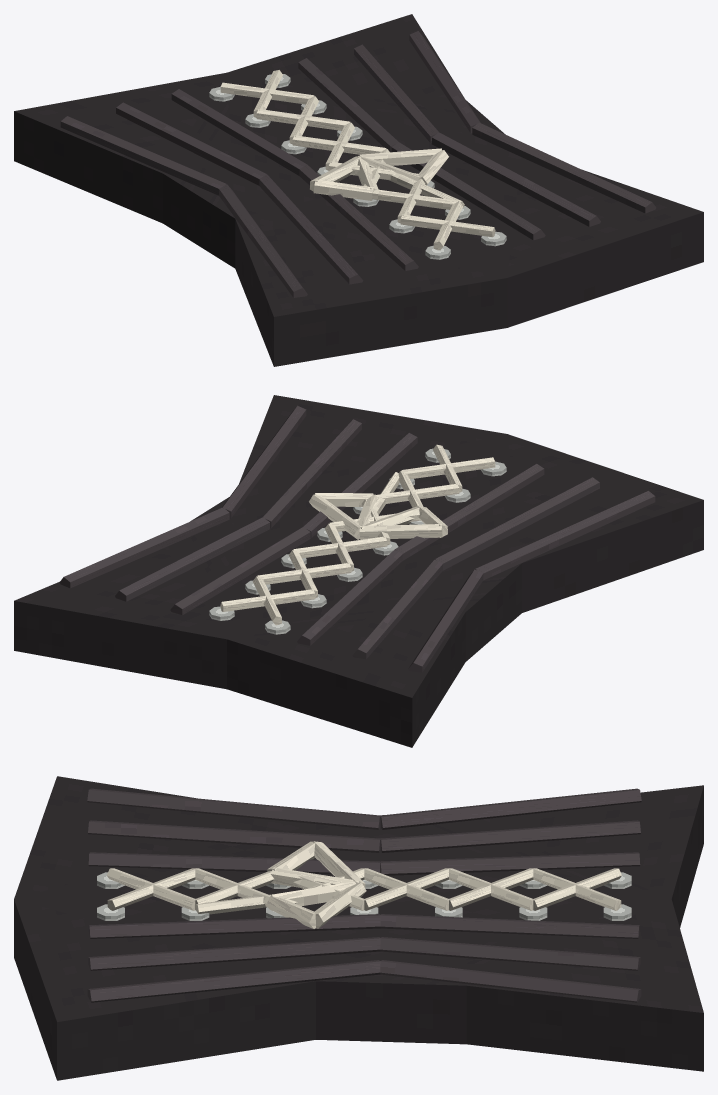
File: corset_waist.glb
3 renders of one model, top to bottom at view 1: azimuth 30°, elevation 25°; view 2: azimuth 150°, elevation 25°; view 3: azimuth 270°, elevation 25°, orthographic. The views are drawn at different scales.
Parts seen in each view (by area): view 1: block_leather corset body, block_steel boning channel 1 (×6), block_steel boning channel 0 (×6), block_crossed lace 0 (×5), block_lace bow 0, block_lace bow 4, block_lace tails 0, block_lace bow 3; view 2: block_leather corset body, block_steel boning channel 1 (×6), block_steel boning channel 0 (×6), block_crossed lace 0 (×5), block_lace bow 3, block_lace bow 0, block_lace bow 1; view 3: block_leather corset body, block_steel boning channel 1 (×6), block_steel boning channel 0 (×6), block_crossed lace 0 (×10), block_lace bow 2, block_lace bow 0, block_lace tails 0, block_lace bow 5, block_lace bow 1, block_lace bow 3, block_lace bow 4.
Part boxes in pixels (box(x1,y1,x2,y2)): block_leather corset body: box(14, 14, 703, 366); block_steel boning channel 1 (×6): box(219, 122, 656, 297); block_steel boning channel 0 (×6): box(60, 31, 480, 195); block_crossed lace 0 (×5): box(220, 82, 495, 237); block_lace bow 0: box(359, 148, 441, 165); block_lace bow 4: box(313, 179, 373, 200); block_lace tails 0: box(369, 164, 464, 207); block_lace bow 3: box(310, 156, 362, 191); block_leather corset body: box(14, 395, 703, 747); block_steel boning channel 1 (×6): box(222, 405, 655, 580); block_steel boning channel 0 (×6): box(59, 507, 483, 672); block_crossed lace 0 (×5): box(220, 457, 495, 611); block_lace bow 3: box(359, 524, 442, 539); block_lace bow 0: box(309, 494, 359, 539); block_lace bow 1: box(314, 493, 373, 506); block_leather corset body: box(14, 776, 703, 1080); block_steel boning channel 1 (×6): box(87, 788, 380, 1002); block_steel boning channel 0 (×6): box(380, 788, 641, 1002); block_crossed lace 0 (×10): box(107, 868, 621, 910); block_lace bow 2: box(271, 881, 358, 906); block_lace bow 0: box(314, 882, 366, 928); block_lace tails 0: box(196, 894, 271, 914); block_lace bow 5: box(271, 867, 360, 887); block_lace bow 1: box(266, 896, 315, 928); block_lace bow 3: box(313, 841, 365, 887); block_lace bow 4: box(267, 841, 317, 871).
Bounding box in the file's own units: 0.2266 × 0.0347 × 0.2685.
2 materials, 2 textured.
